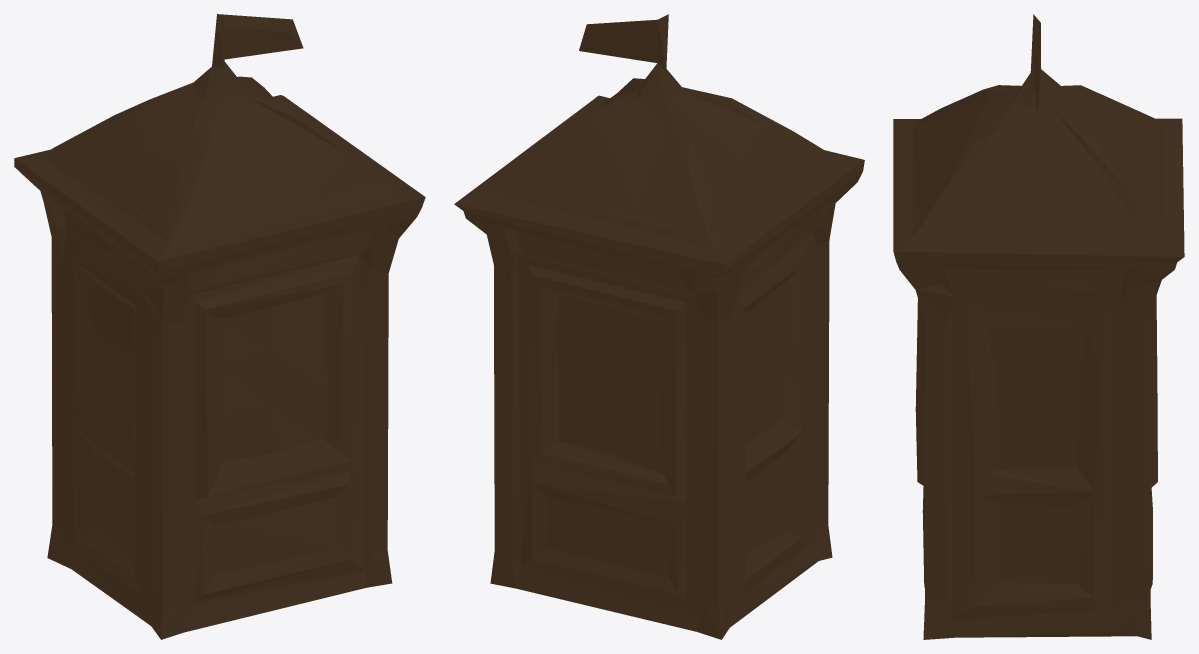
The model's file is env_plaza_guard_post.glb.
The picture shows the model from 3 angles, left to right: view 1: azimuth 30°, elevation 25°; view 2: azimuth 150°, elevation 25°; view 3: azimuth 270°, elevation 25°; orthographic projection.
Visible parts, largest first — view 1: env_plaza_guard_post; view 2: env_plaza_guard_post; view 3: env_plaza_guard_post.
Boxes of the visible parts, x1,y1,x2,y2 form: env_plaza_guard_post: [14, 14, 425, 639]; env_plaza_guard_post: [454, 14, 864, 639]; env_plaza_guard_post: [893, 14, 1184, 639].
Size of the model in its own units: 1.26 by 2.49 by 1.16.
